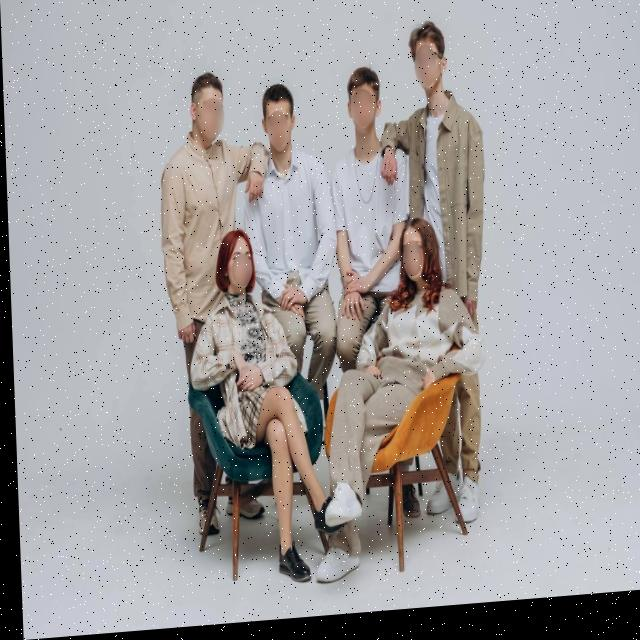Person: (305, 225, 487, 610), (180, 224, 323, 588), (155, 71, 269, 335), (384, 11, 501, 251), (319, 50, 404, 350), (244, 74, 328, 301)
